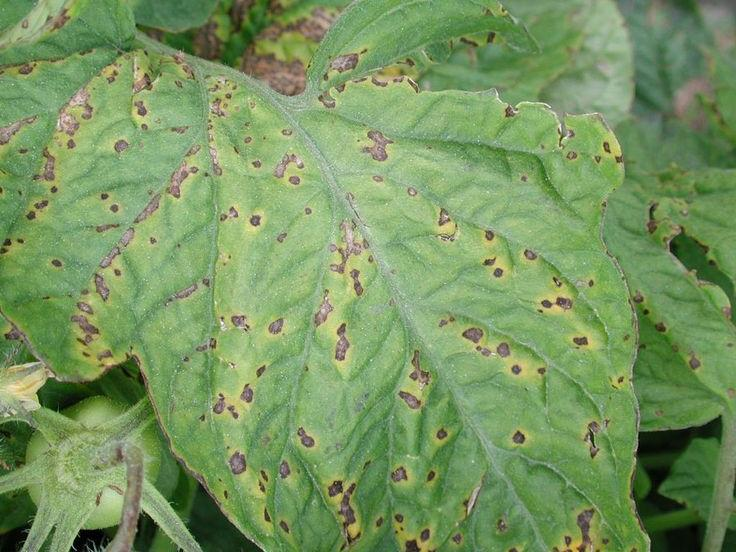Tomato leaf bacterial spot: (11, 19, 682, 551)
